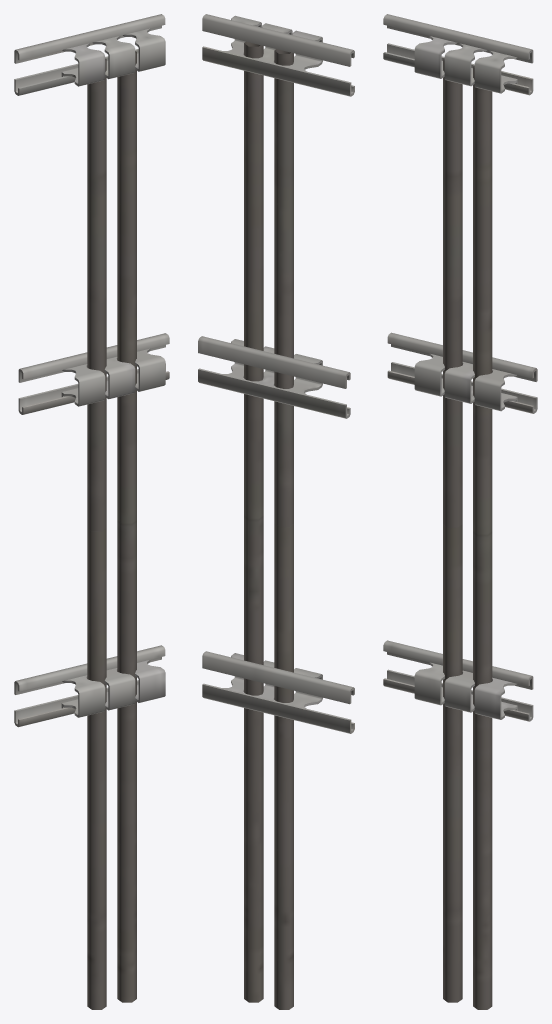
Rendered from wall-cable--4.gltf.
The picture shows the model from 3 angles, left to right: view 1: azimuth 30°, elevation 25°; view 2: azimuth 150°, elevation 25°; view 3: azimuth 330°, elevation 25°; orthographic projection.
Parts seen in each view (by area): view 1: cable_double_alt_long; view 2: cable_double_alt_long; view 3: cable_double_alt_long.
Boxes of the visible parts, x1,y1,x2,y2 form: cable_double_alt_long: [14, 14, 169, 1009]; cable_double_alt_long: [198, 14, 354, 1009]; cable_double_alt_long: [383, 14, 537, 1009].
Size of the model in its own units: 0.0997 by 0.6141 by 0.0221.
Materials: 1 (1 with a texture image).
